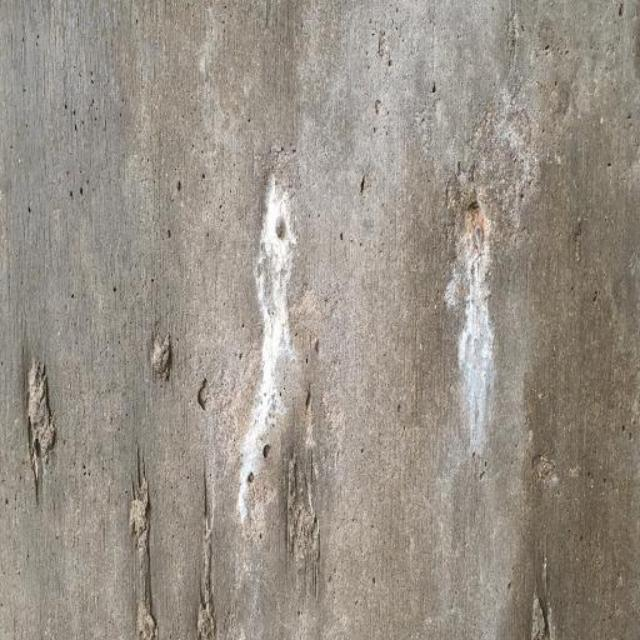D01: (238, 174, 297, 522), (458, 214, 497, 453)
